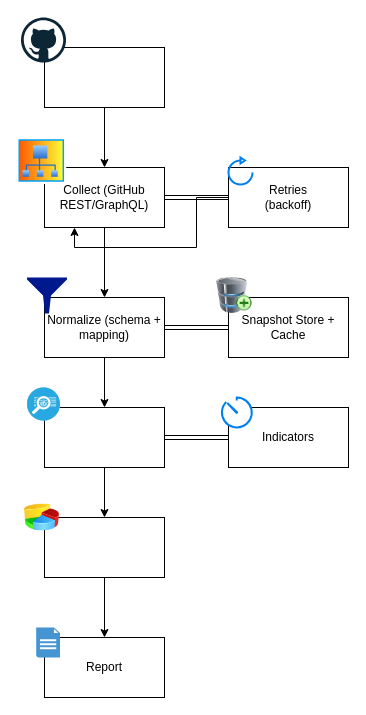
Some shapes in this 366 by 715 pixel diagram are drawn without their labels. The centre of each missing label's shape, as x and y in pixels:
"Analyze (bus factor, blast radius)" goes at [104,437].
"Input (repo list + time window)" goes at [104,77].
"Visualize" goes at [104,547].
